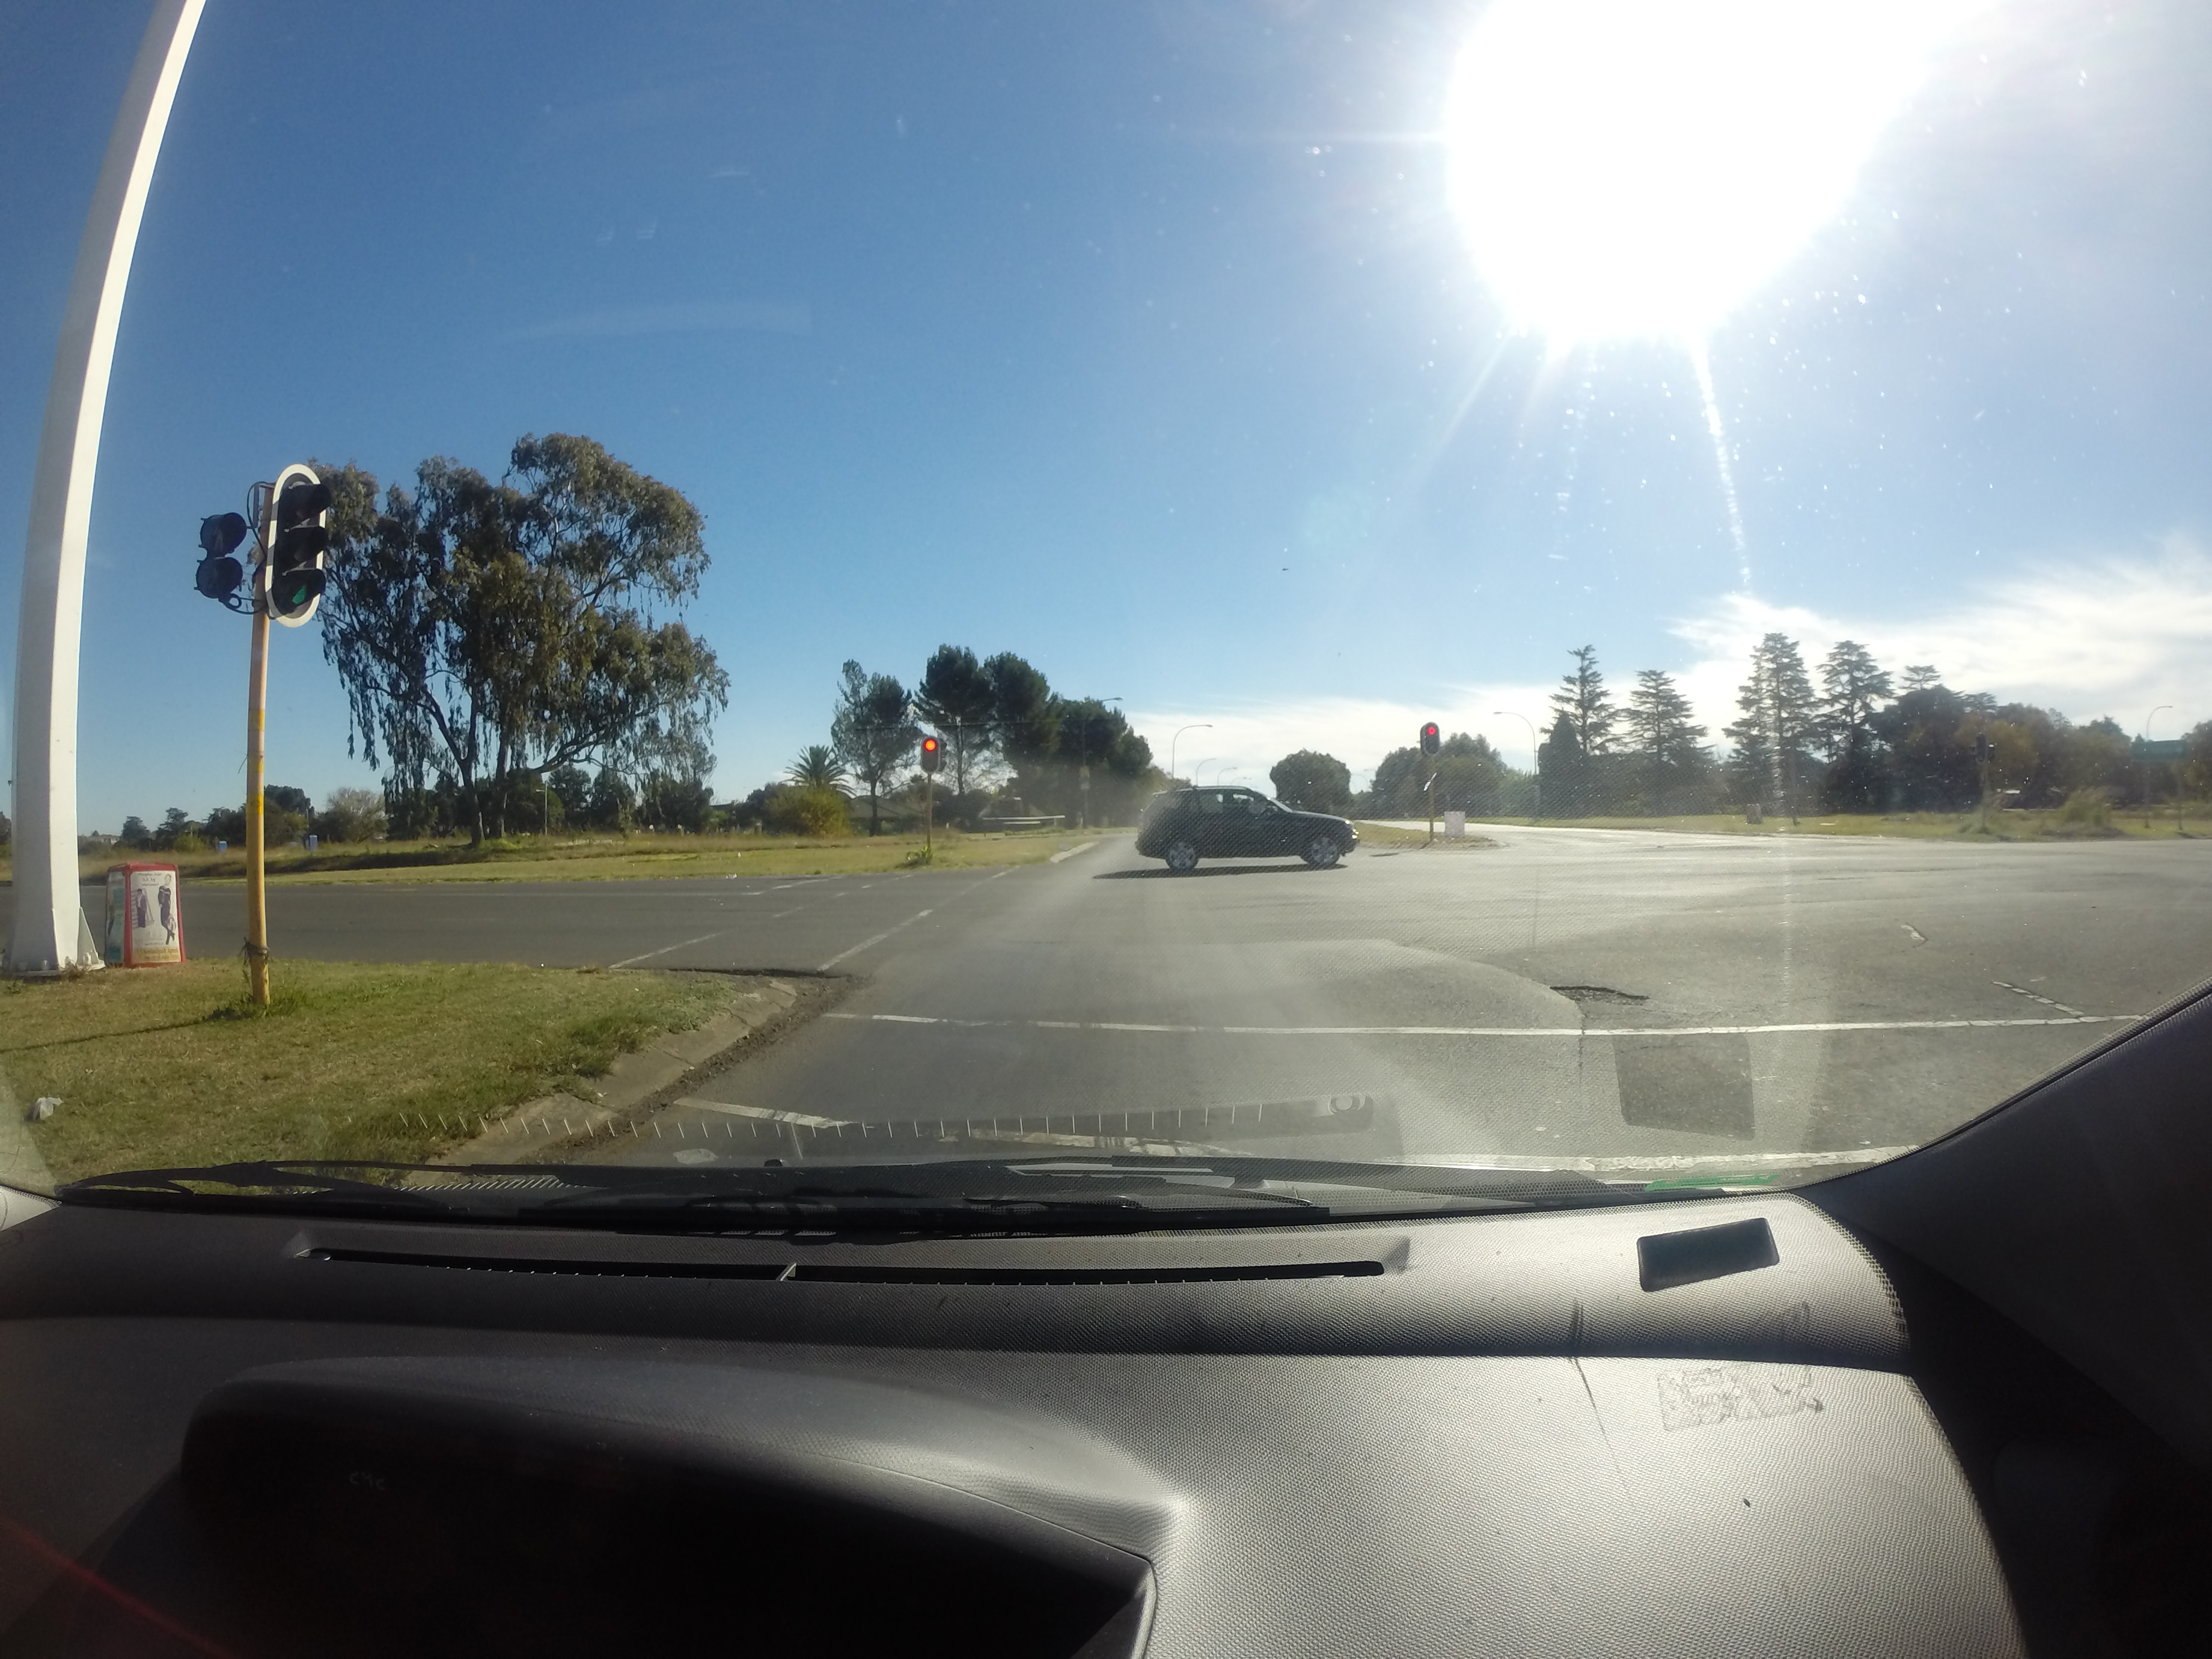pothole: (1531, 962, 1733, 1047)
